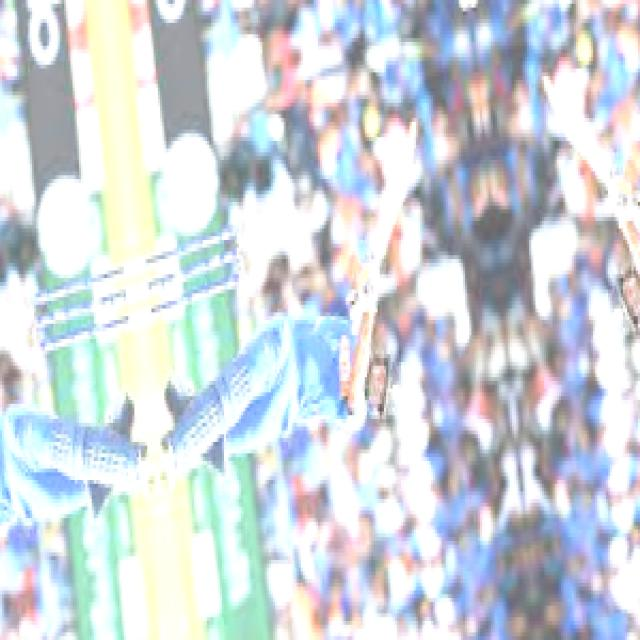toe: (405, 114, 419, 150)
